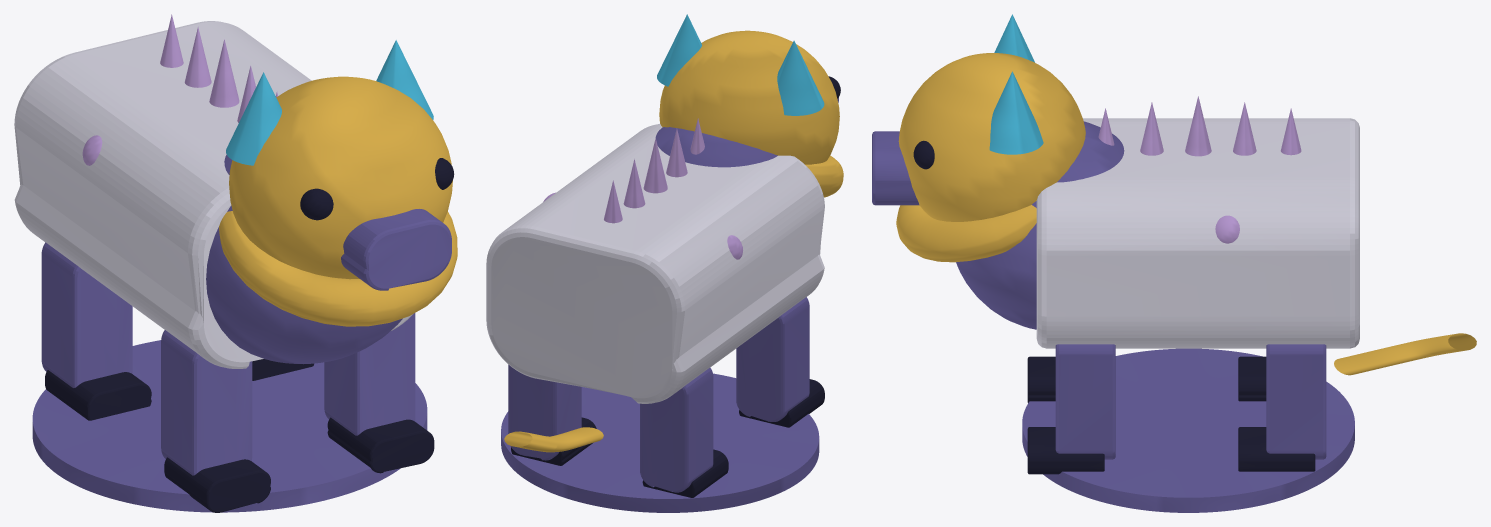
The model's file is 1336_中国古代寓言_狼.glb.
3 renders of one model, left to right at view 1: azimuth 30°, elevation 25°; view 2: azimuth 150°, elevation 25°; view 3: azimuth 270°, elevation 25°, orthographic. The views are drawn at different scales.
Visible parts, largest first — view 1: card_1336; view 2: card_1336; view 3: card_1336.
Boxes of the visible parts, bbox=[...] form: card_1336: bbox=[14, 14, 457, 512]; card_1336: bbox=[486, 14, 843, 512]; card_1336: bbox=[872, 14, 1476, 512].
Bounding box in the file's own units: 0.8083 × 1 × 1.38.
